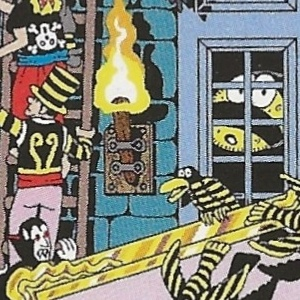Wenda: (142, 120, 158, 180)
